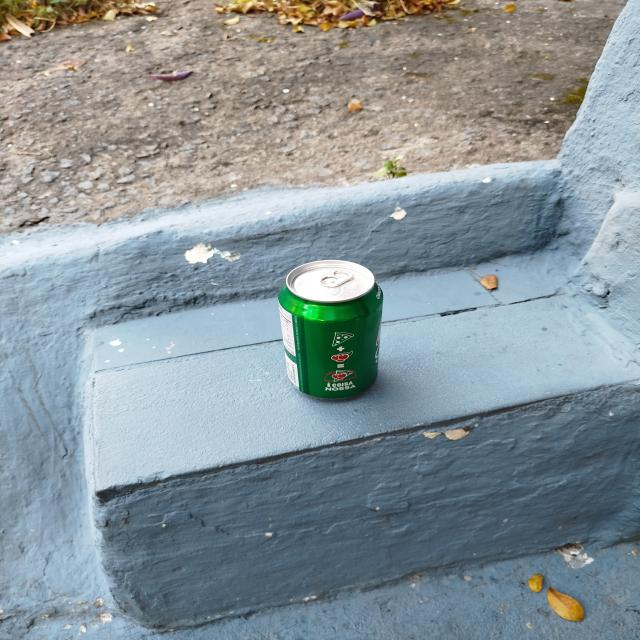Guarana: (280, 261, 384, 400)
